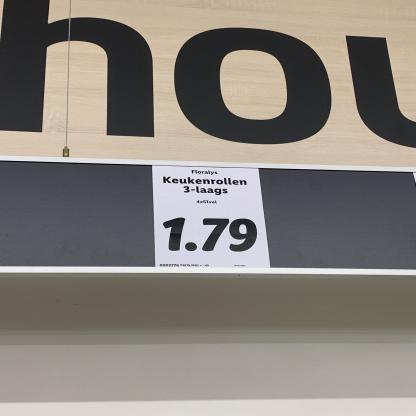prtg: (153, 167, 271, 269)
